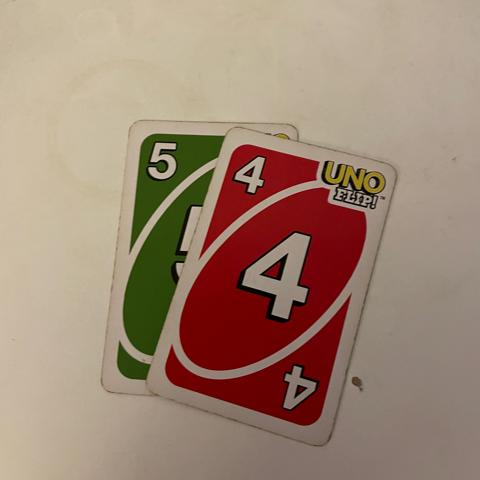lgreen-5: (138, 128, 192, 188)
lred-4: (229, 145, 278, 209)
